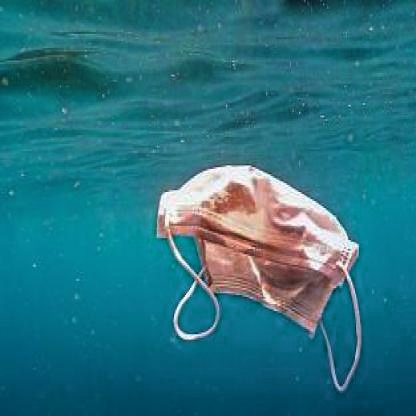Mask: (150, 167, 363, 404)
